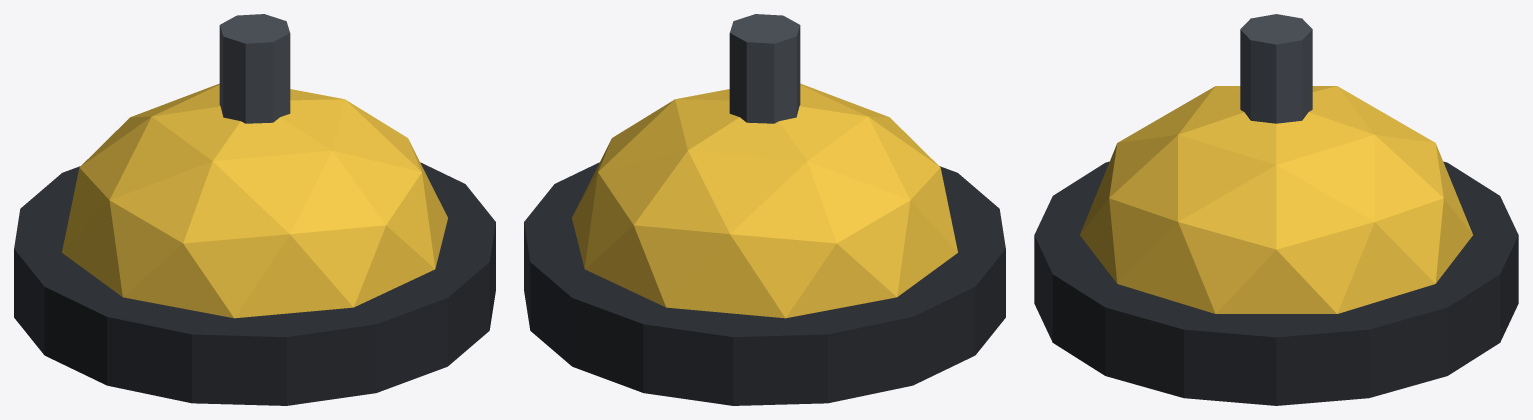
Rendered from prop_pomodoro_p2.glb.
The picture shows the model from 3 angles, left to right: view 1: azimuth 30°, elevation 25°; view 2: azimuth 150°, elevation 25°; view 3: azimuth 270°, elevation 25°; orthographic projection.
Visible parts, largest first — view 1: prop_pomodoro_p2_mesh; view 2: prop_pomodoro_p2_mesh; view 3: prop_pomodoro_p2_mesh.
Boxes of the visible parts, <box> form: prop_pomodoro_p2_mesh: <box>14,14,495,405</box>; prop_pomodoro_p2_mesh: <box>524,14,1005,405</box>; prop_pomodoro_p2_mesh: <box>1034,14,1518,405</box>.
Bounding box in the file's own units: 0.16 × 0.1237 × 0.16.
